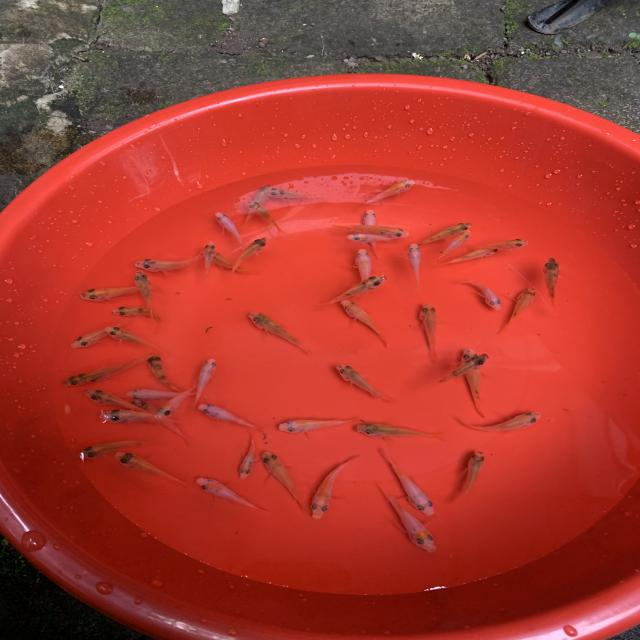nila: (366, 477, 438, 554), (91, 406, 194, 452), (375, 448, 436, 519), (306, 452, 360, 524), (251, 445, 308, 512), (330, 359, 406, 408), (187, 473, 269, 518), (238, 310, 314, 357), (346, 413, 448, 448), (459, 345, 499, 422), (337, 297, 393, 349), (188, 399, 267, 435), (115, 449, 192, 485), (457, 405, 543, 435), (407, 298, 446, 362), (145, 352, 198, 396), (74, 434, 154, 463), (448, 448, 486, 509), (498, 282, 546, 330), (321, 275, 388, 309), (74, 277, 152, 305), (241, 198, 291, 239), (151, 382, 195, 428), (276, 414, 366, 436), (130, 263, 164, 321), (355, 210, 392, 263), (432, 242, 502, 270), (102, 299, 172, 327), (432, 353, 491, 386), (362, 174, 419, 208), (182, 352, 216, 409), (229, 235, 273, 278), (68, 318, 128, 349), (99, 320, 161, 349), (540, 254, 572, 310), (125, 379, 202, 402), (457, 277, 509, 311), (82, 387, 144, 415), (235, 180, 272, 226), (131, 254, 211, 275), (233, 426, 263, 482), (411, 219, 473, 246), (210, 212, 251, 252), (52, 364, 114, 390), (323, 222, 415, 239), (207, 250, 262, 277), (435, 227, 475, 263), (402, 241, 432, 286), (264, 188, 328, 205), (469, 237, 532, 253), (340, 232, 407, 247), (196, 238, 222, 276), (352, 244, 372, 290)
